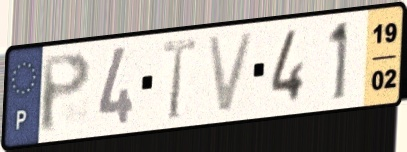1: (326, 19, 350, 103)
4: (96, 44, 135, 129), (269, 26, 308, 106)
P: (39, 49, 94, 136)
T: (160, 35, 199, 123)
V: (204, 27, 259, 118)
